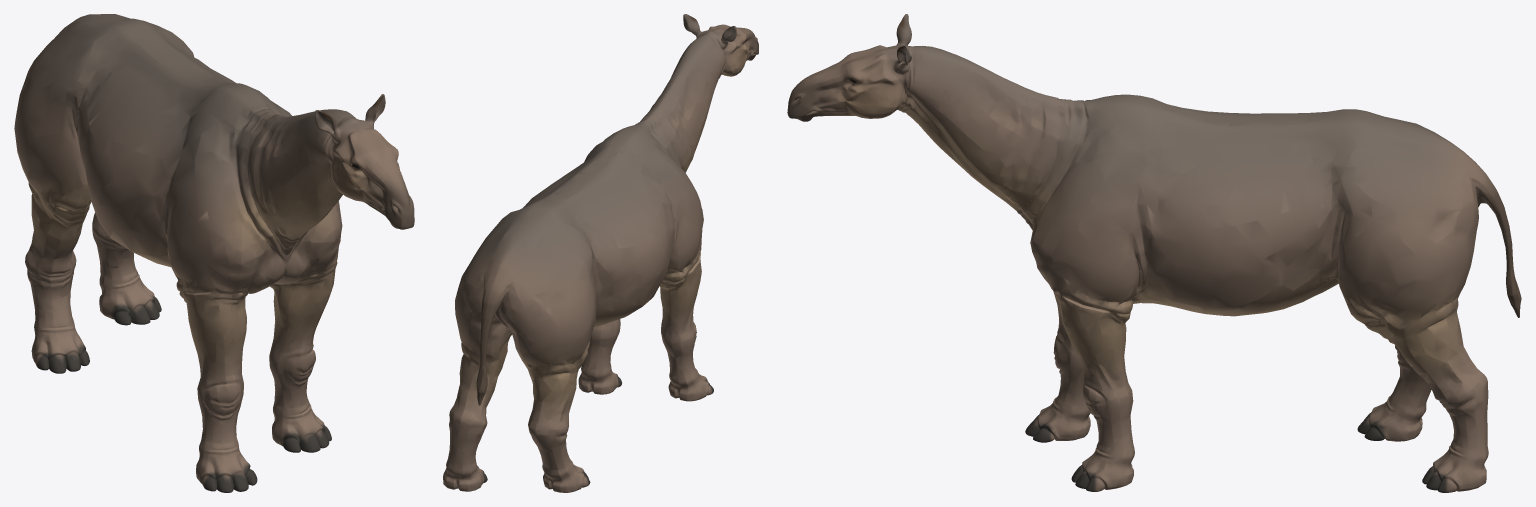
3 views of the same model, side by side, from view 1: azimuth 30°, elevation 25°; view 2: azimuth 150°, elevation 25°; view 3: azimuth 270°, elevation 25° (orthographic). The views are drawn at different scales.
Parts seen in each view (by area): view 1: Paraceratherium_refined_v1; view 2: Paraceratherium_refined_v1; view 3: Paraceratherium_refined_v1.
Boxes of the visible parts, x1=… form: Paraceratherium_refined_v1: x1=14, y1=14, x2=414, y2=492; Paraceratherium_refined_v1: x1=443, y1=14, x2=758, y2=492; Paraceratherium_refined_v1: x1=787, y1=14, x2=1521, y2=492.
Bounding box in the file's own units: 0.3507 × 0.771 × 1.2.
